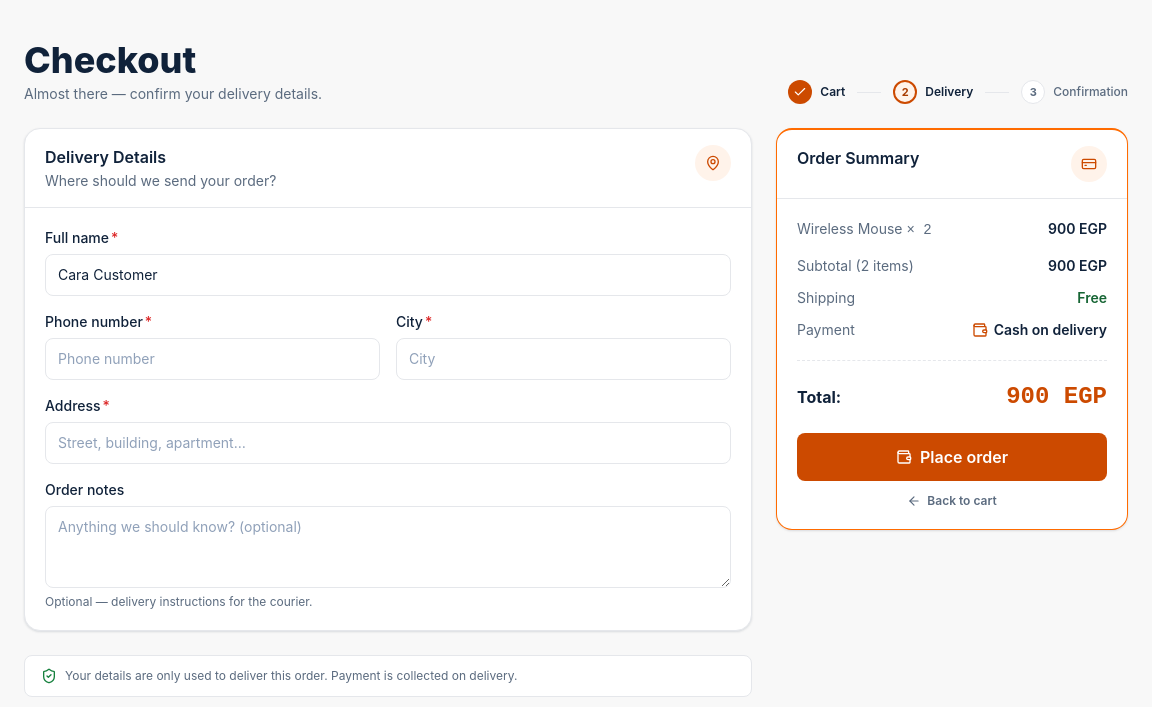
Checkout page › puts 400 field errors under the matching input
Expected: the heading "Checkout" is shown, x1=24 y1=38 x2=196 y2=82
Step 1. Type "0100000000" into the field labelled "Phone number*" → (212, 359), box x1=45 y1=338 x2=380 y2=380
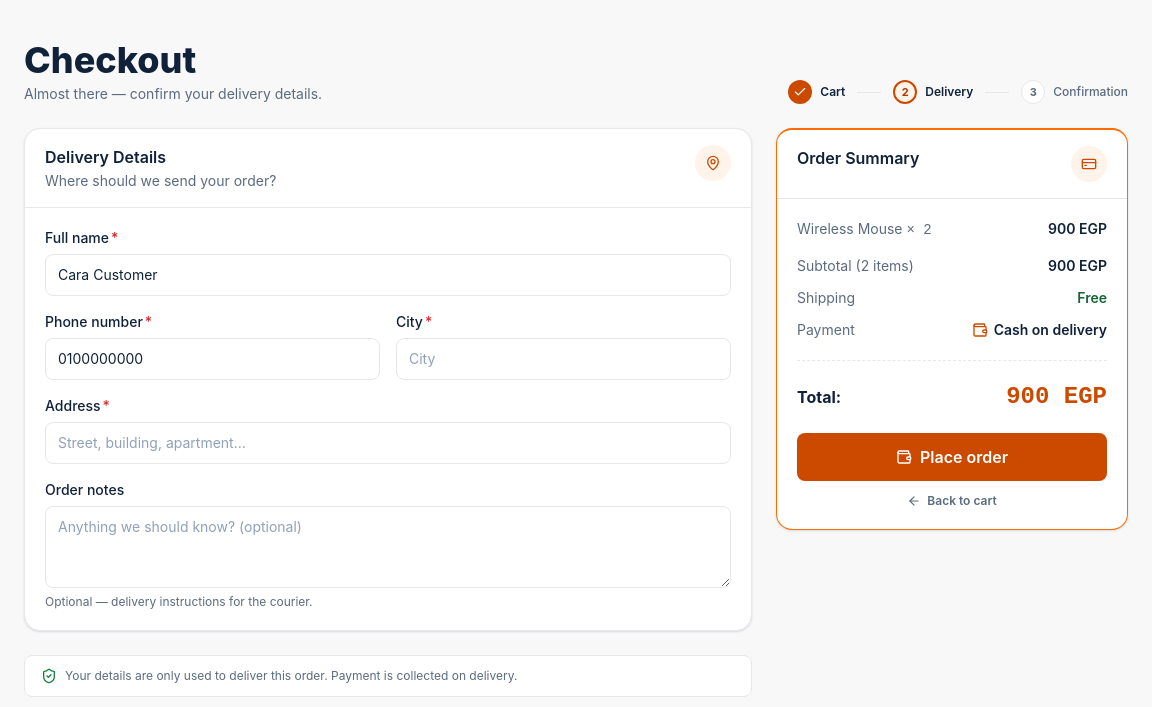
Step 2. Type "Cairo" into the field labelled "City*" → (564, 359), box x1=396 y1=338 x2=731 y2=380
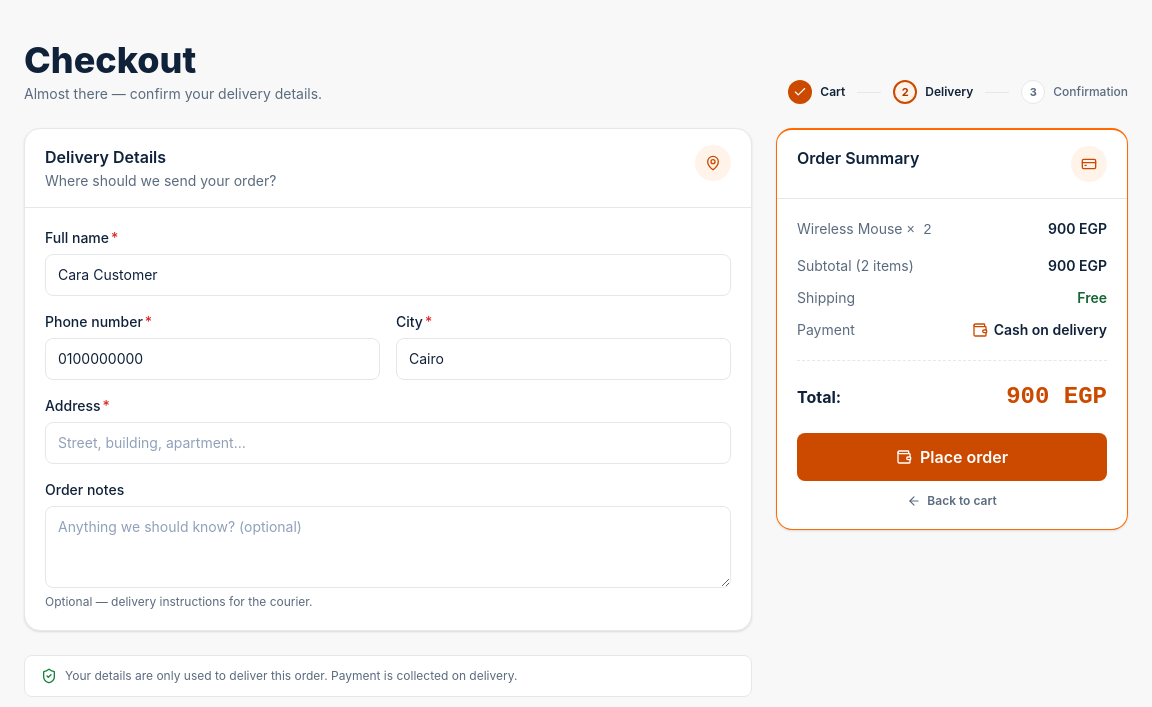
Step 3. Type "1 Tahrir St" into the field labelled "Address*" → (388, 443), box x1=45 y1=422 x2=731 y2=464
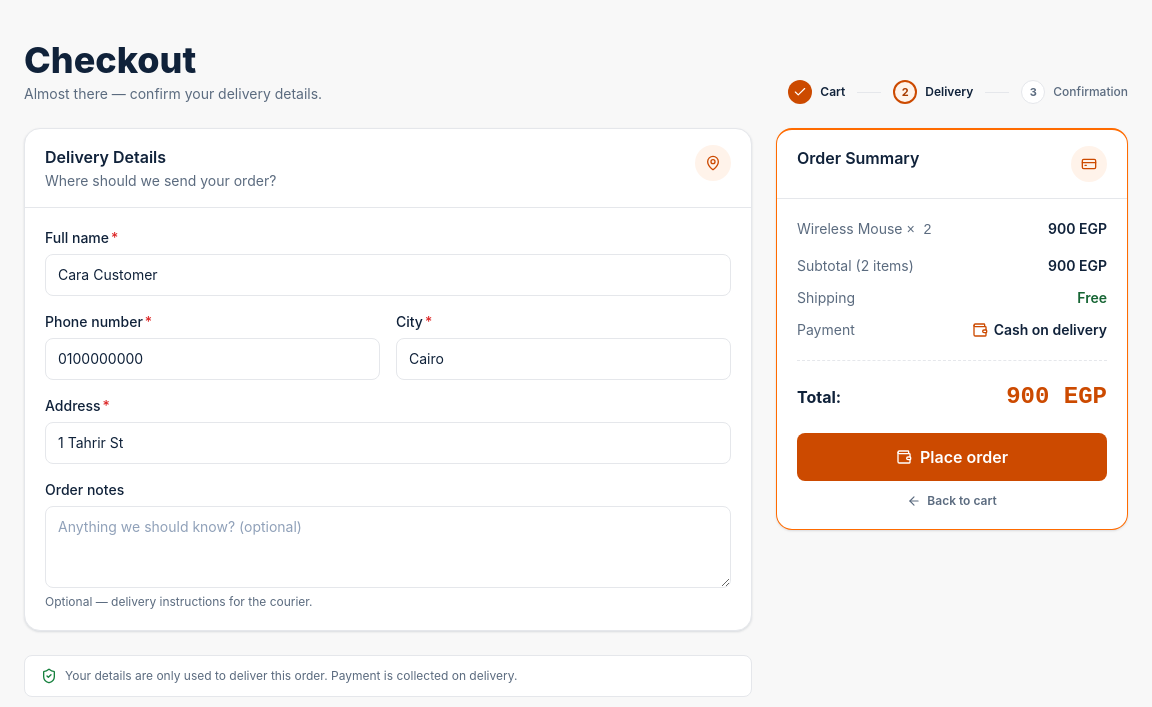
Step 4. Click the button "Place order" → (952, 457), box x1=797 y1=433 x2=1107 y2=481
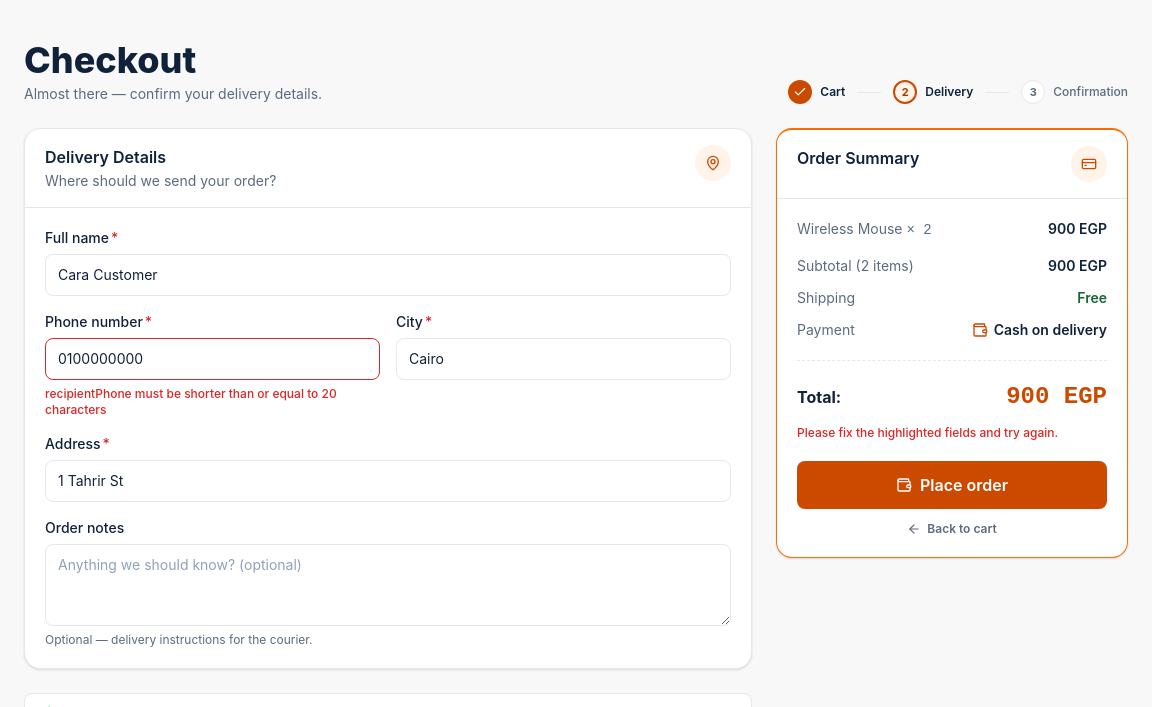
Expected: the text "recipientPhone must be shorter than or equal to 20 characters" is shown, x1=45 y1=386 x2=380 y2=418
Expected: the text "Please fix the highlighted fields and try again." is shown, x1=797 y1=425 x2=1058 y2=440
